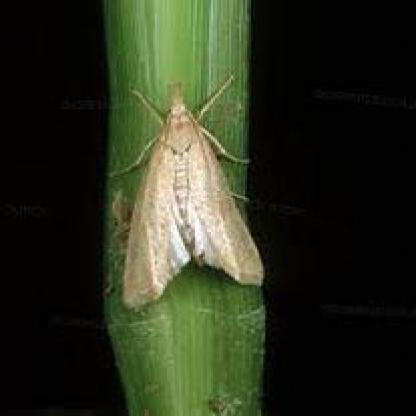stem-borer: (118, 73, 244, 313)
